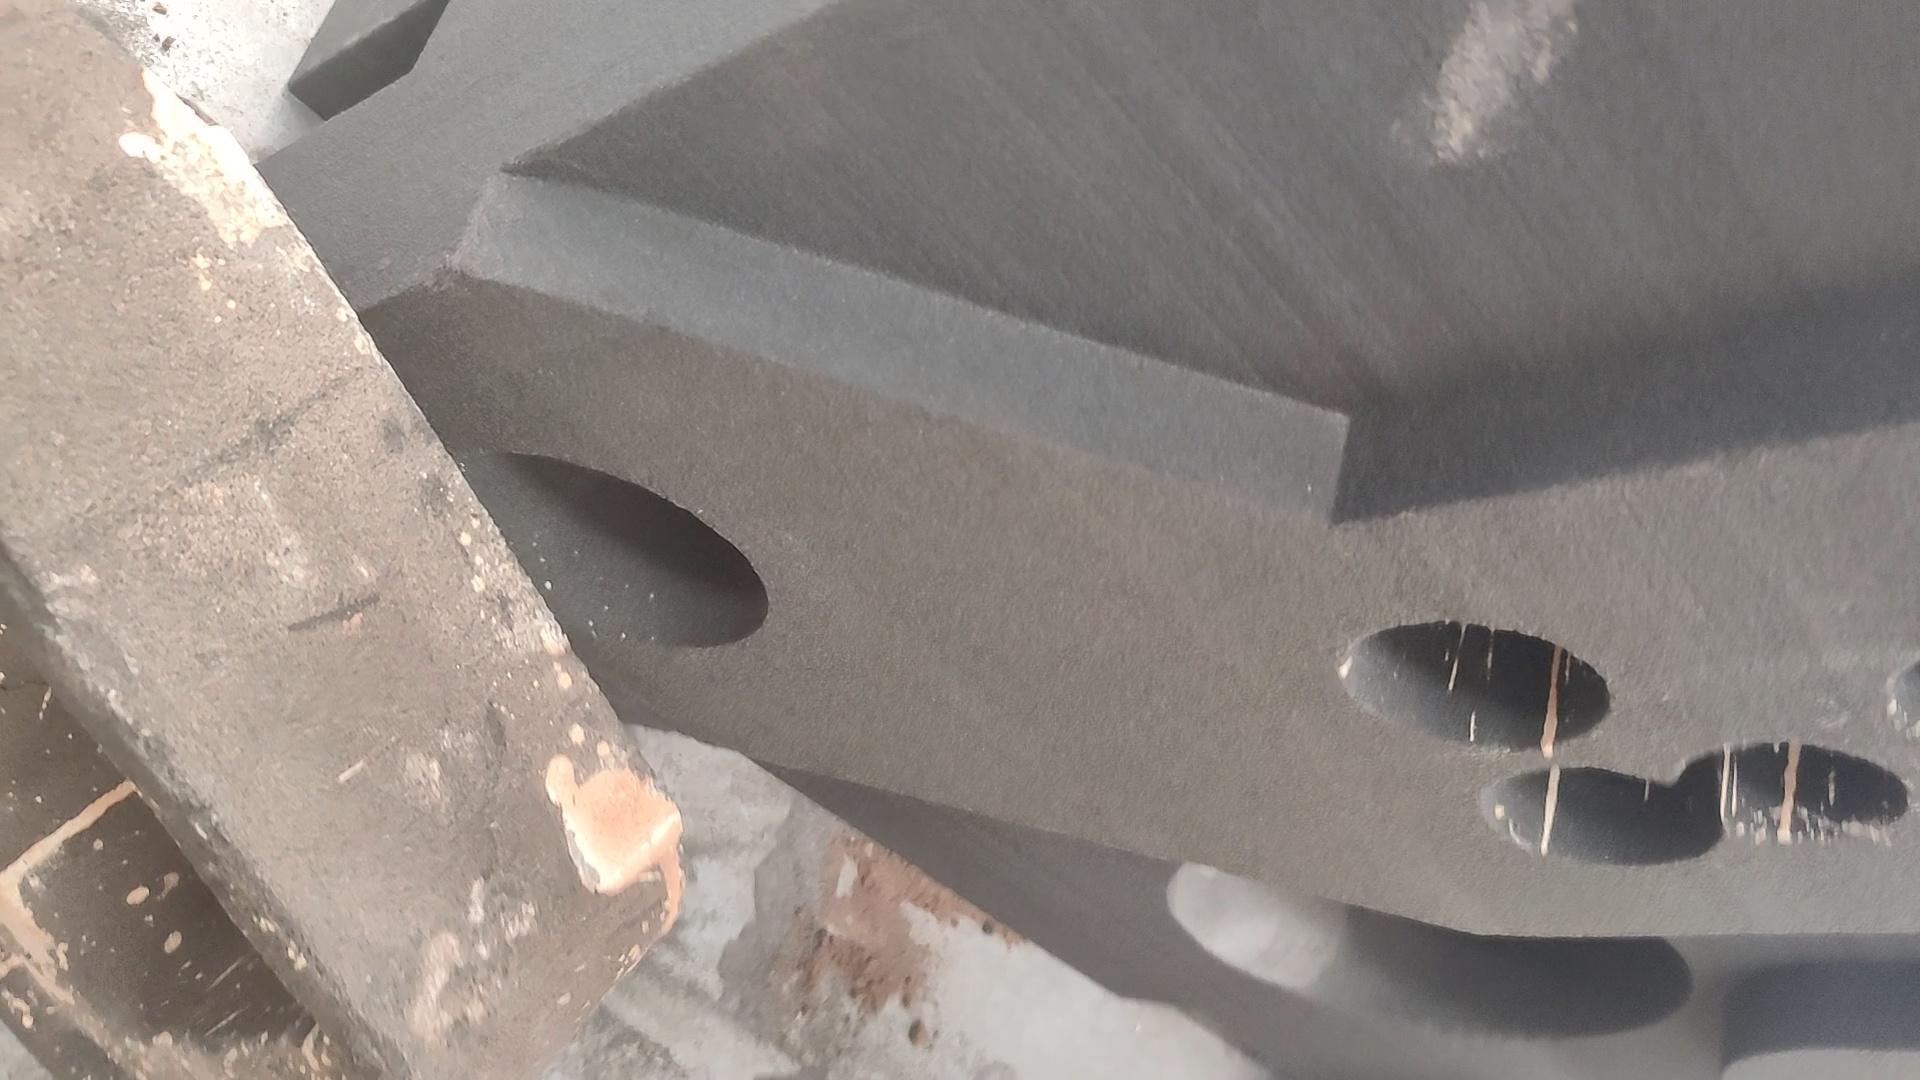pouring hole: (458, 448, 771, 649)
